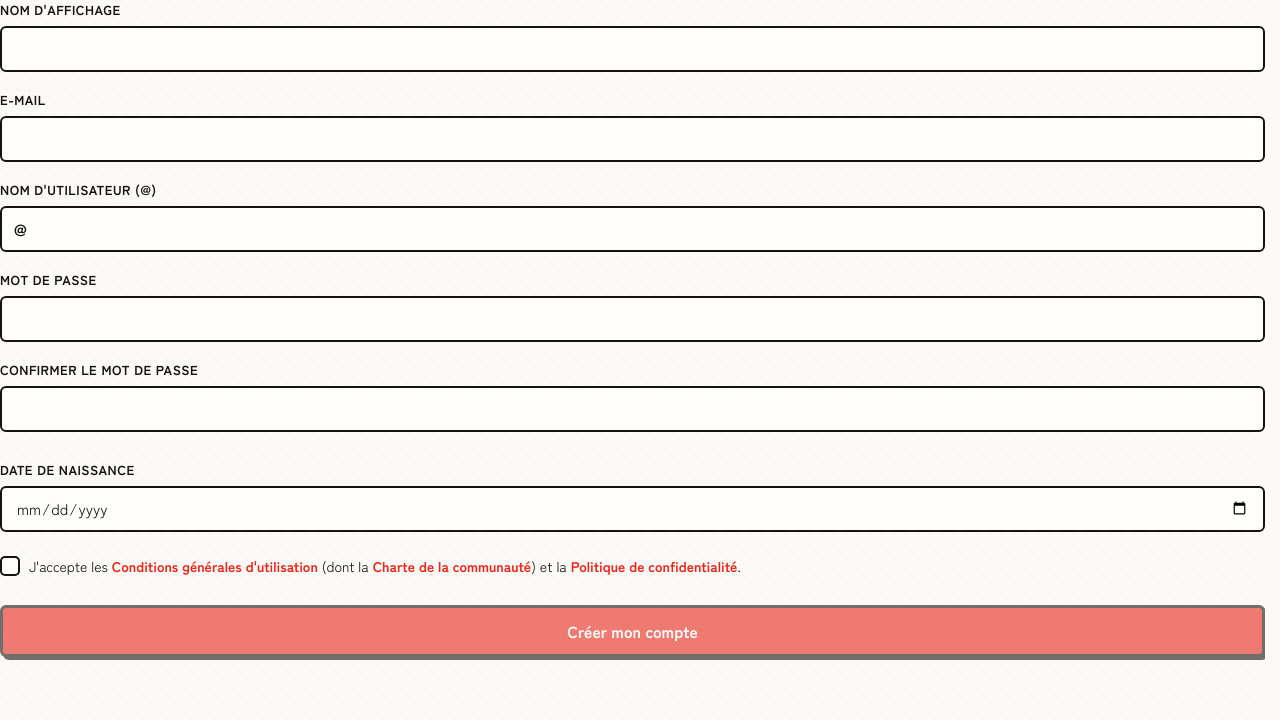
SignupForm › shows server EMAIL_TAKEN error message inline
This screenshot has width=1280, height=720.
Type "Yuki Moreau" into the field labelled "Nom d'affichage". click: (632, 49)
box: [0,26,1265,72]
Type "yuki@example.com" into the field labelled "E-mail". click: (632, 139)
box: [0,116,1265,162]
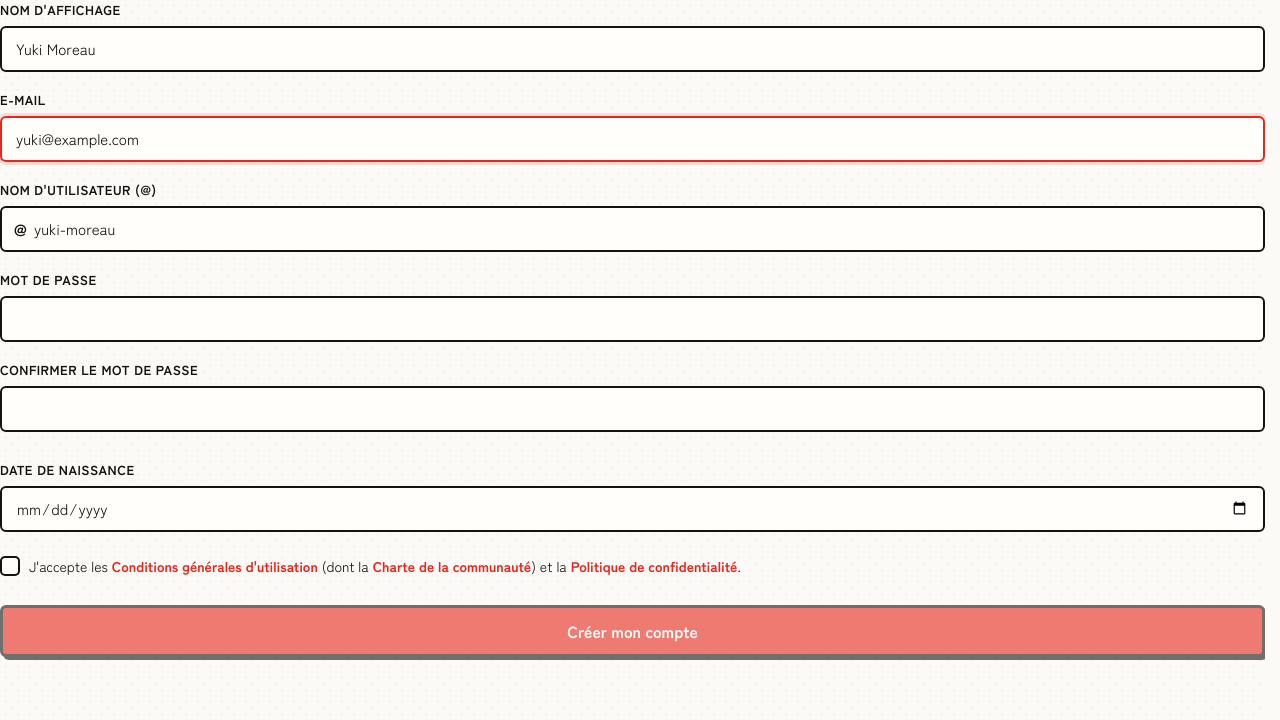
Type "password123" into the password field labelled "Mot de passe". click: (632, 319)
box: [0,296,1265,342]
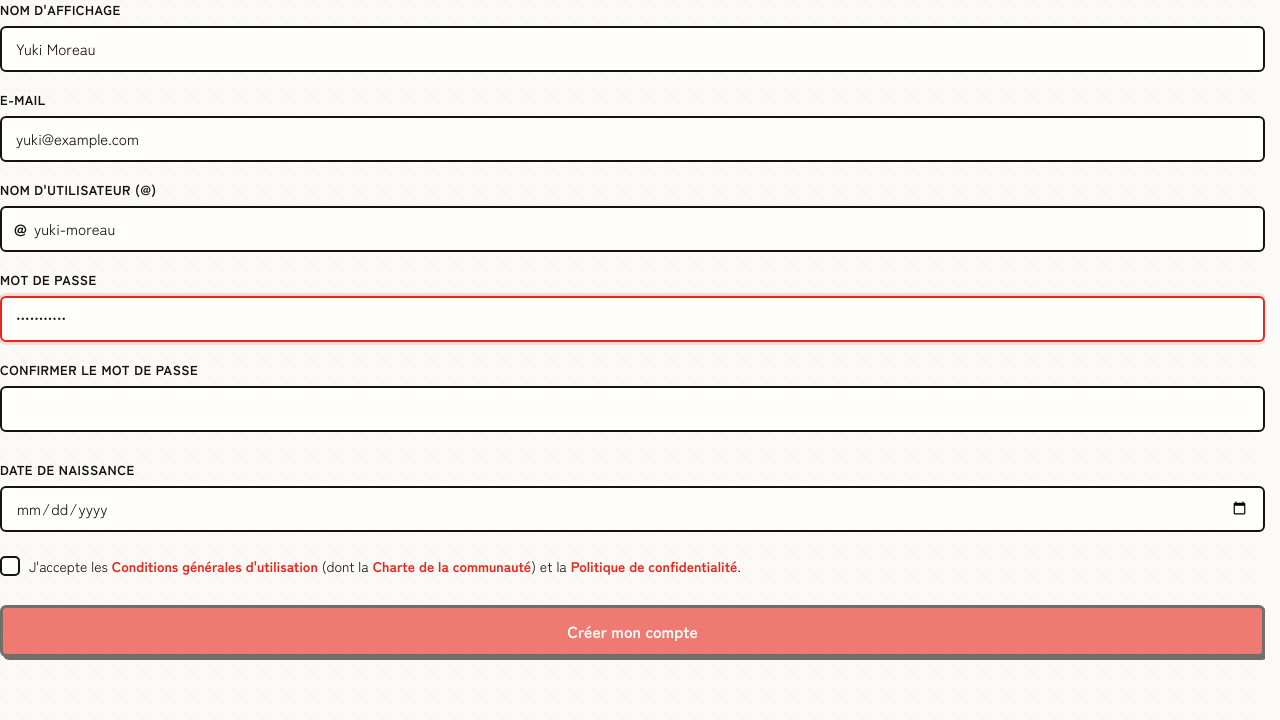
Type "password123" into the password field labelled "Confirmer le mot de passe". click: (632, 409)
box: [0,386,1265,432]
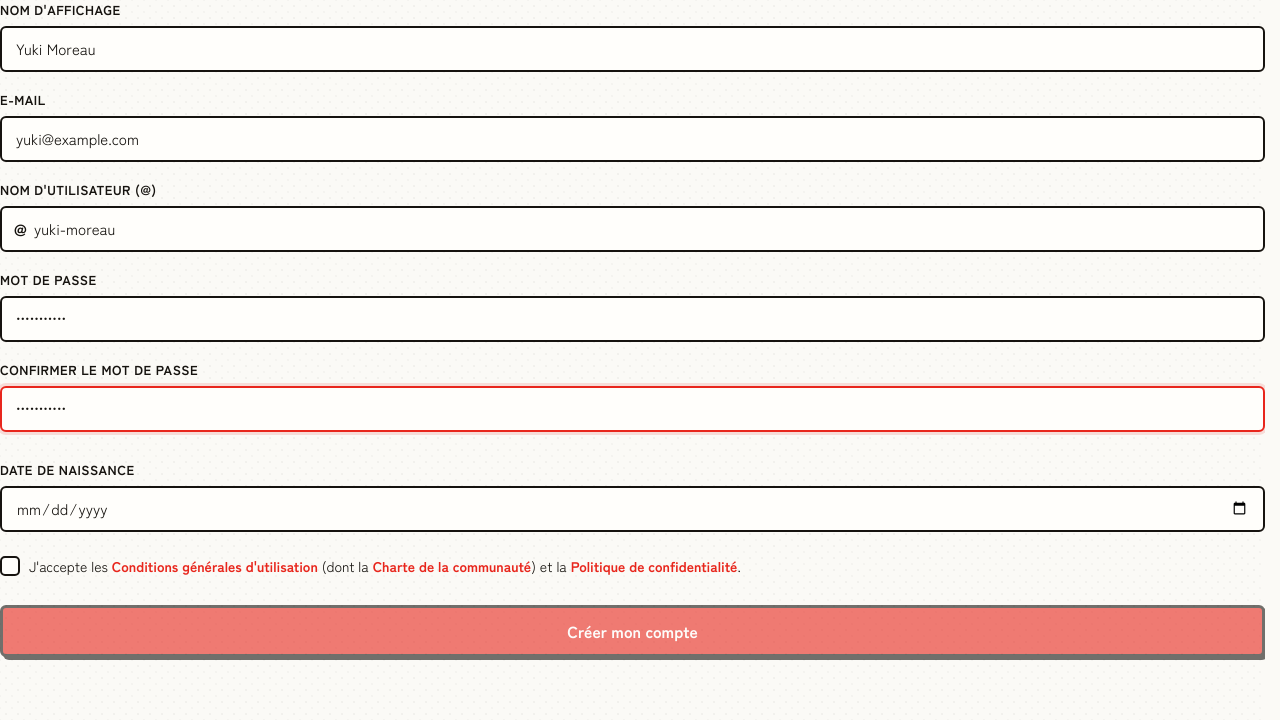
Type "1990-01-01" into the date field labelled "Date de naissance". click: (632, 509)
box: [0,486,1265,532]
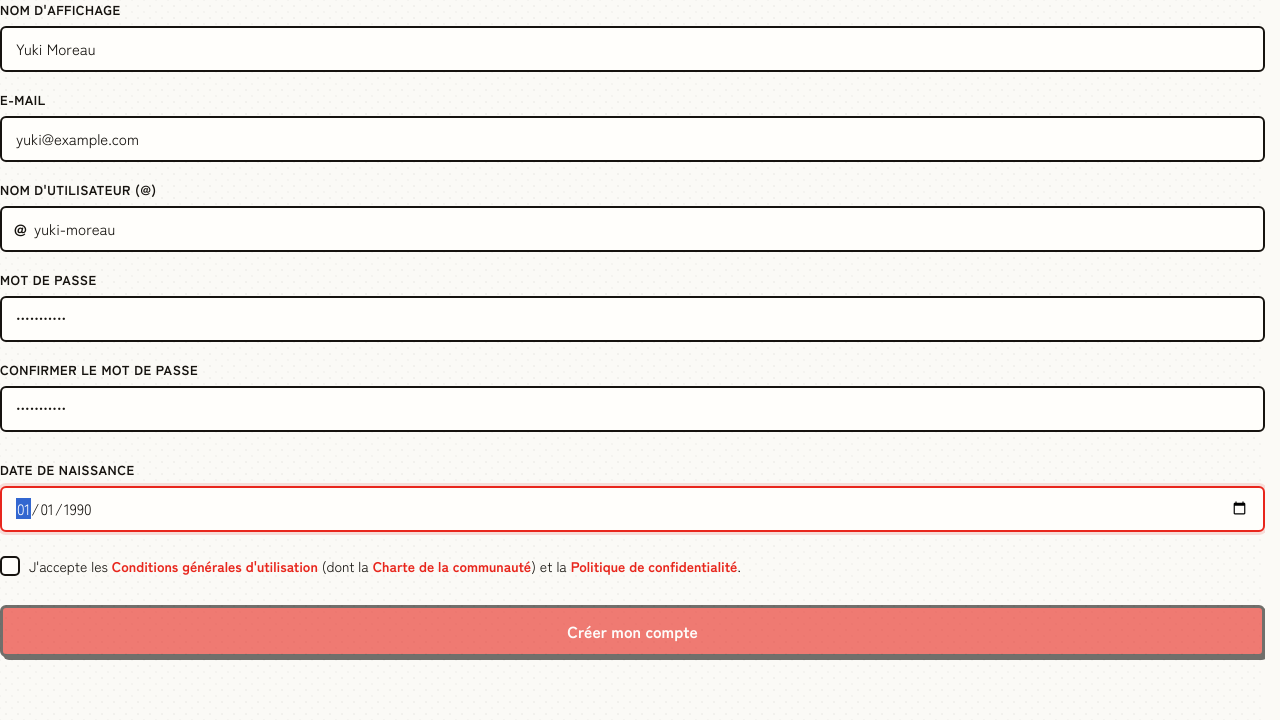
Click the checkbox labelled "J'accepte les". click: (370, 566)
box: [0,556,741,577]
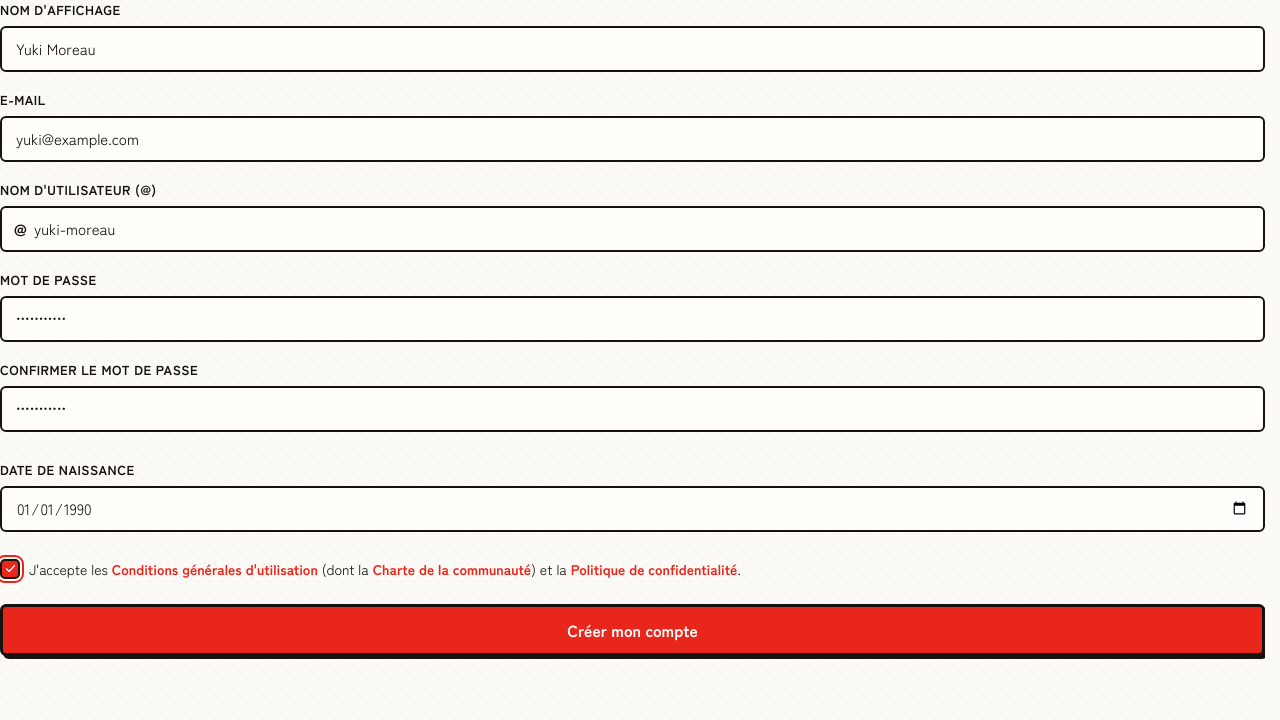
Click the button "Créer mon compte". click: (632, 630)
box: [0,604,1265,656]
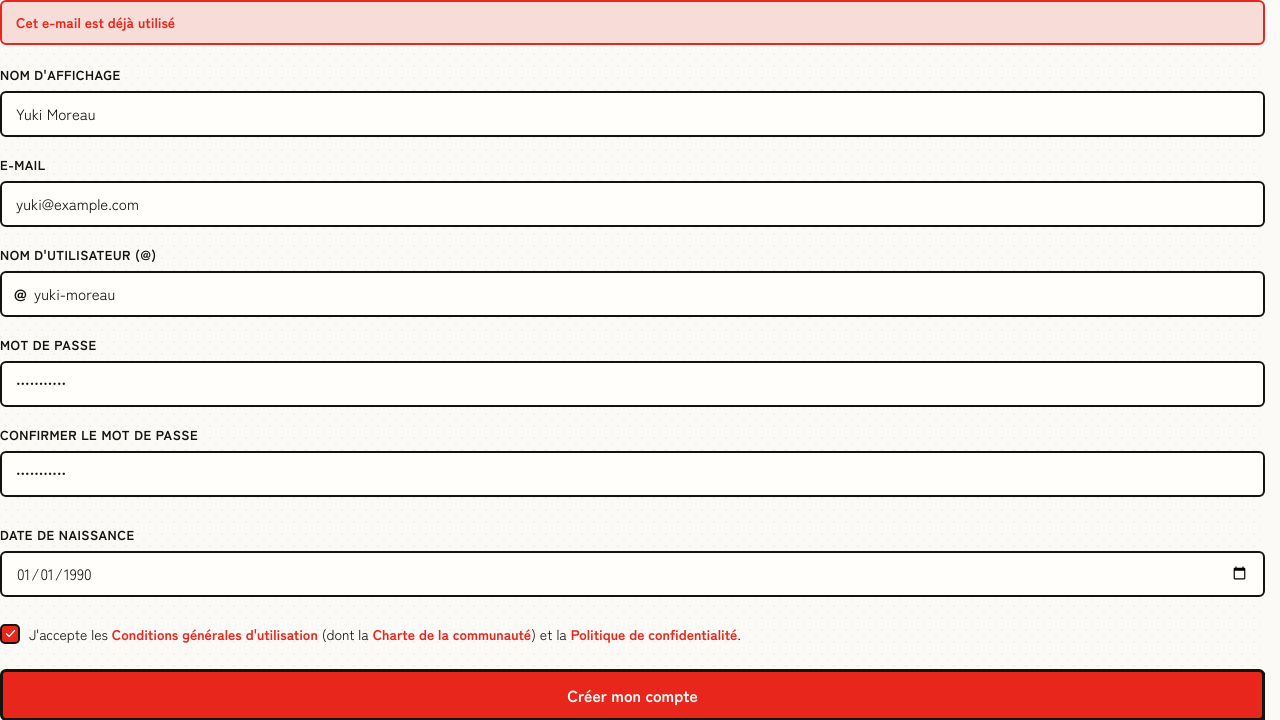
Expected: the text "Cet e-mail est déjà utilisé" is shown, [0,0,1265,45]
